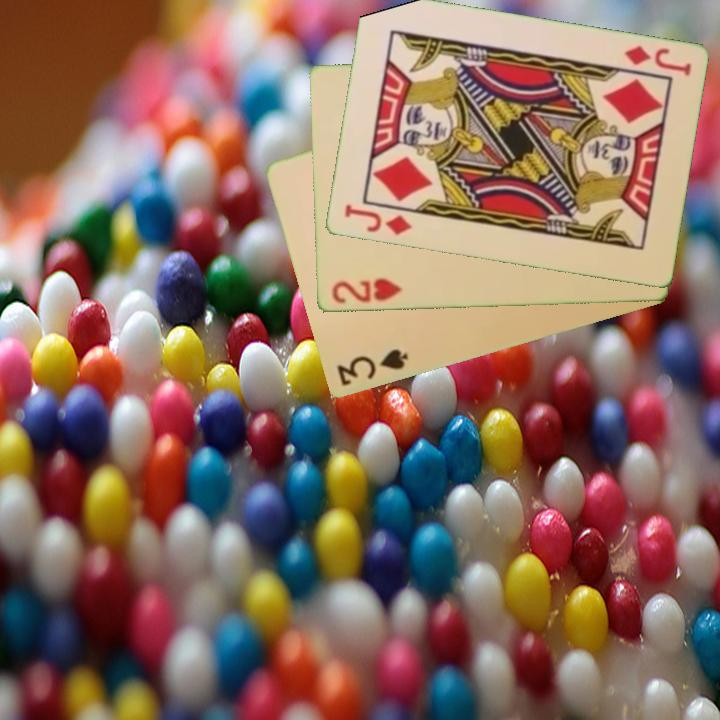2h: (328, 275, 404, 307)
3s: (333, 345, 411, 390)
Jd: (340, 201, 415, 239), (620, 42, 694, 79)
